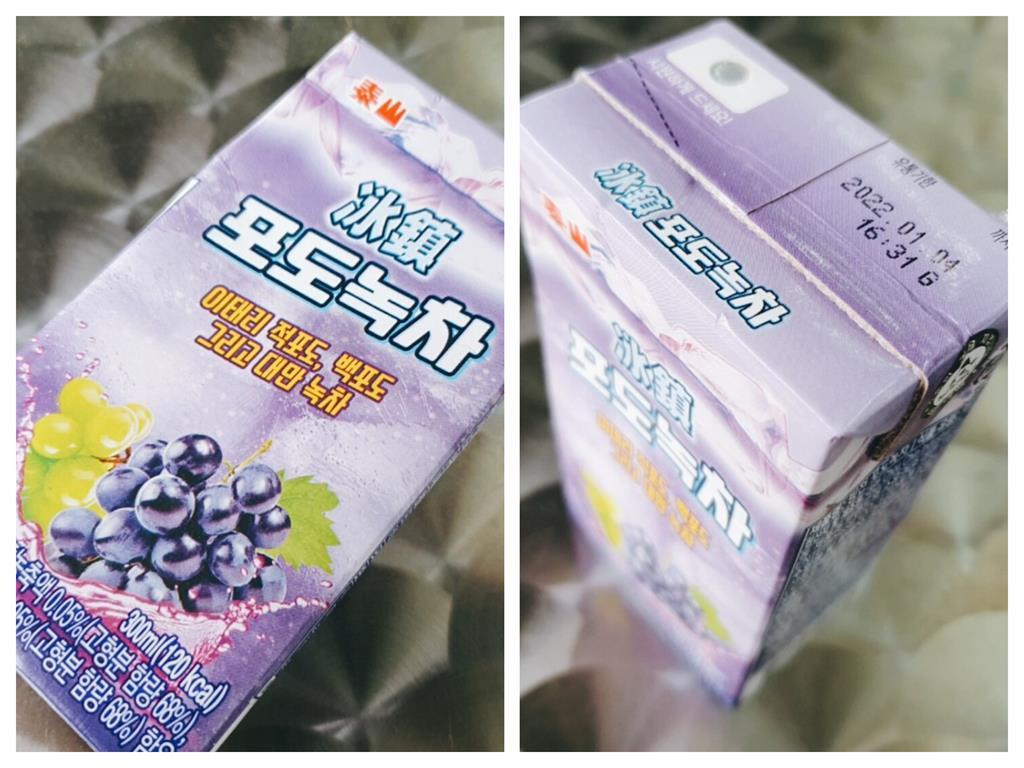cardboard: (16, 20, 503, 752), (520, 22, 1006, 750)
